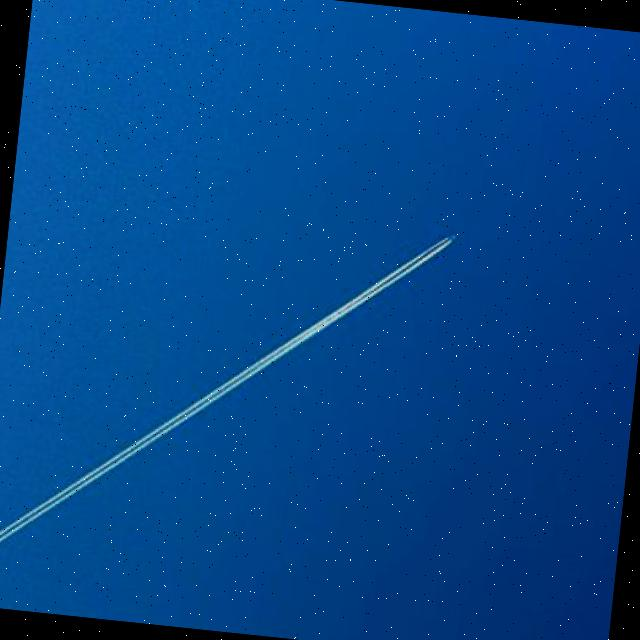Ct: (1, 160, 520, 594)
